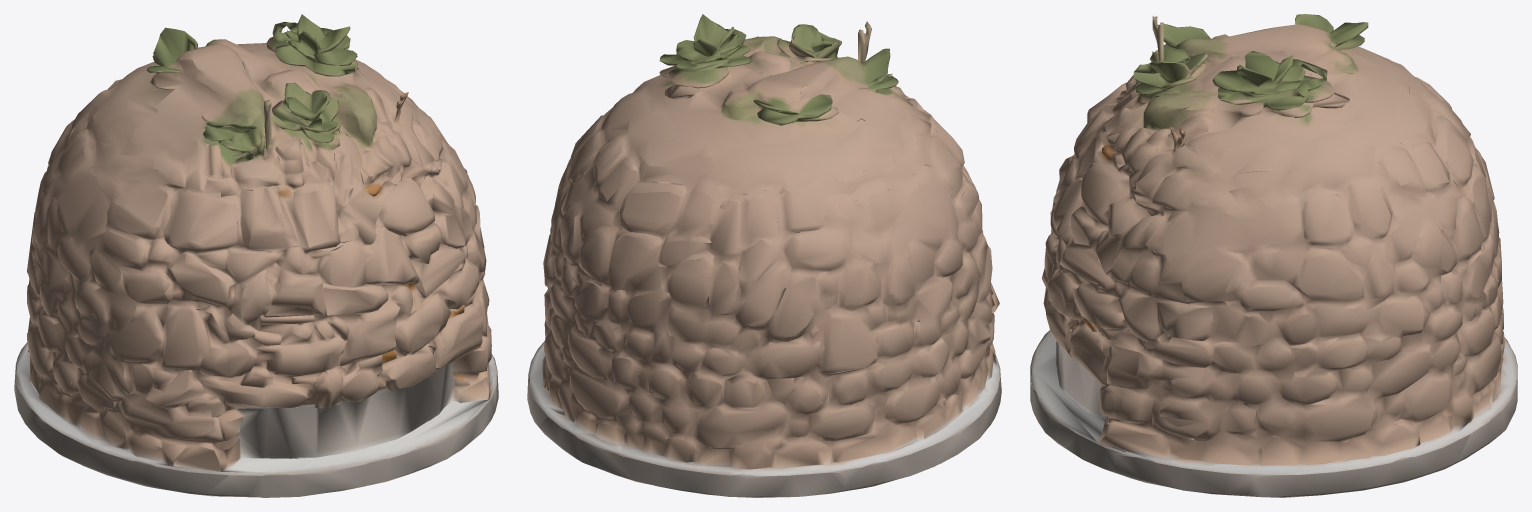
3 renders of one model, left to right at view 1: azimuth 30°, elevation 25°; view 2: azimuth 150°, elevation 25°; view 3: azimuth 270°, elevation 25°, orthographic. The views are drawn at different scales.
Parts seen in each view (by area): view 1: material; view 2: material; view 3: material.
Boxes of the visible parts, left/top/right/bottom form: material: left=14, top=14, right=498, bottom=497; material: left=527, top=14, right=1001, bottom=497; material: left=1030, top=14, right=1517, bottom=497.
Bounding box in the file's own units: 1.9 × 1.58 × 1.9.
Materials: 1 (1 with a texture image).
